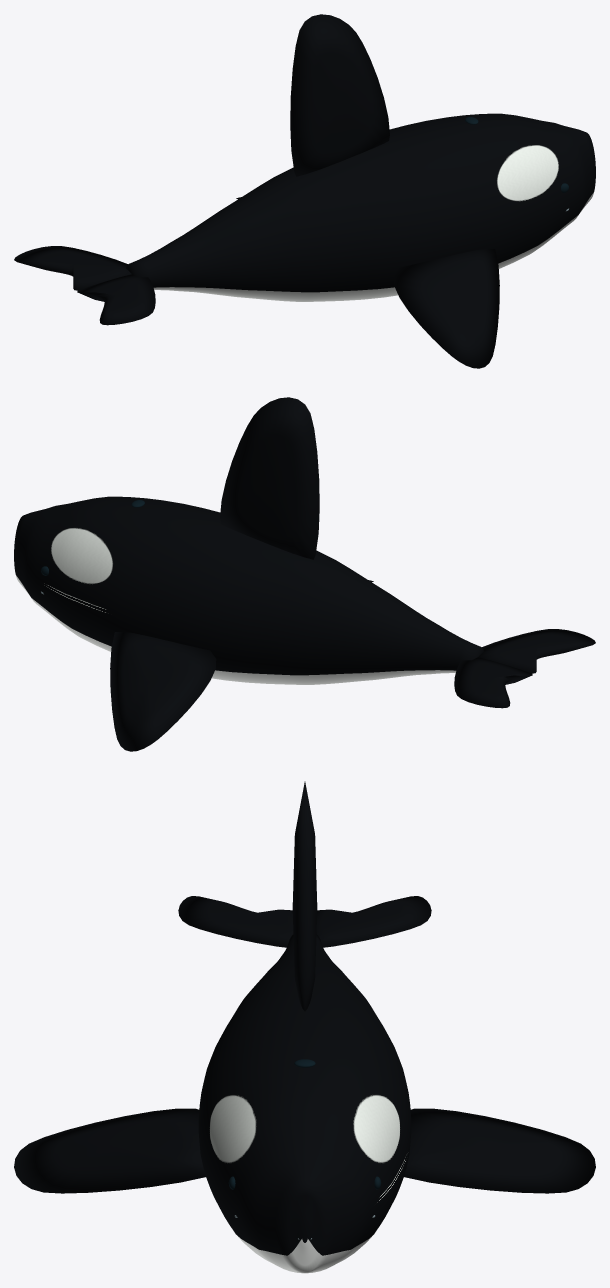
The model's file is m_orca.glb.
3 views of the same model, one above another, from view 1: azimuth 30°, elevation 25°; view 2: azimuth 150°, elevation 25°; view 3: azimuth 270°, elevation 25° (orthographic). The views are drawn at different scales.
Visible parts, largest first — view 1: Orca; view 2: Orca; view 3: Orca.
Part boxes in pixels (x1,y1,x2,y2): Orca: (14, 14, 595, 368); Orca: (14, 397, 595, 751); Orca: (14, 781, 595, 1273).
Size of the model in its own units: 1.08 by 0.5672 by 0.8015.
4 materials, 1 textured.
